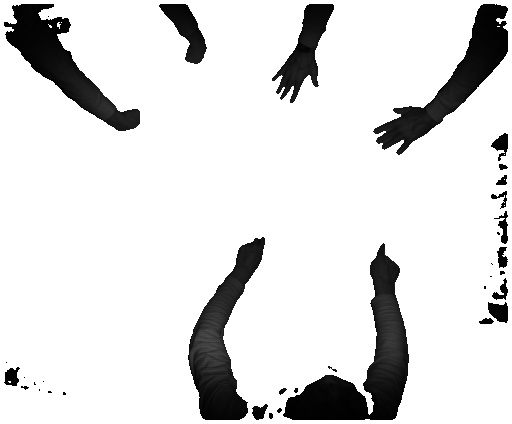fist: (119, 106, 143, 135), (185, 42, 207, 63)
hand: (372, 106, 428, 159), (272, 53, 319, 103), (234, 232, 271, 277), (368, 240, 399, 291)
